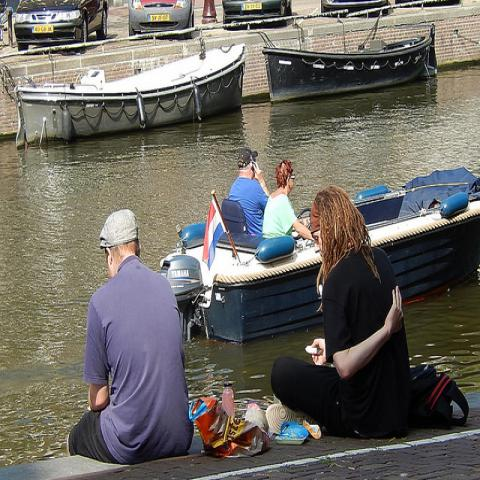car: (15, 0, 109, 50), (128, 0, 195, 38), (222, 1, 293, 25), (320, 0, 396, 17)
